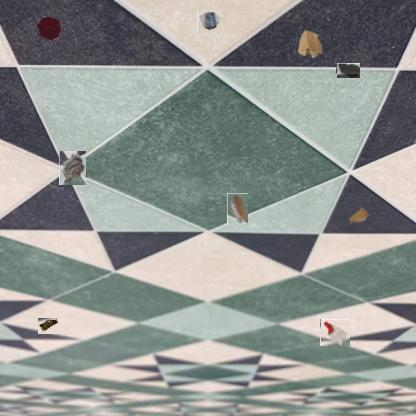dirty: (58, 153, 88, 184), (296, 29, 324, 59), (320, 319, 350, 346), (227, 193, 248, 224), (197, 10, 222, 32), (347, 206, 371, 226), (38, 318, 60, 334)
liquid: (35, 16, 61, 42), (336, 63, 360, 78)
